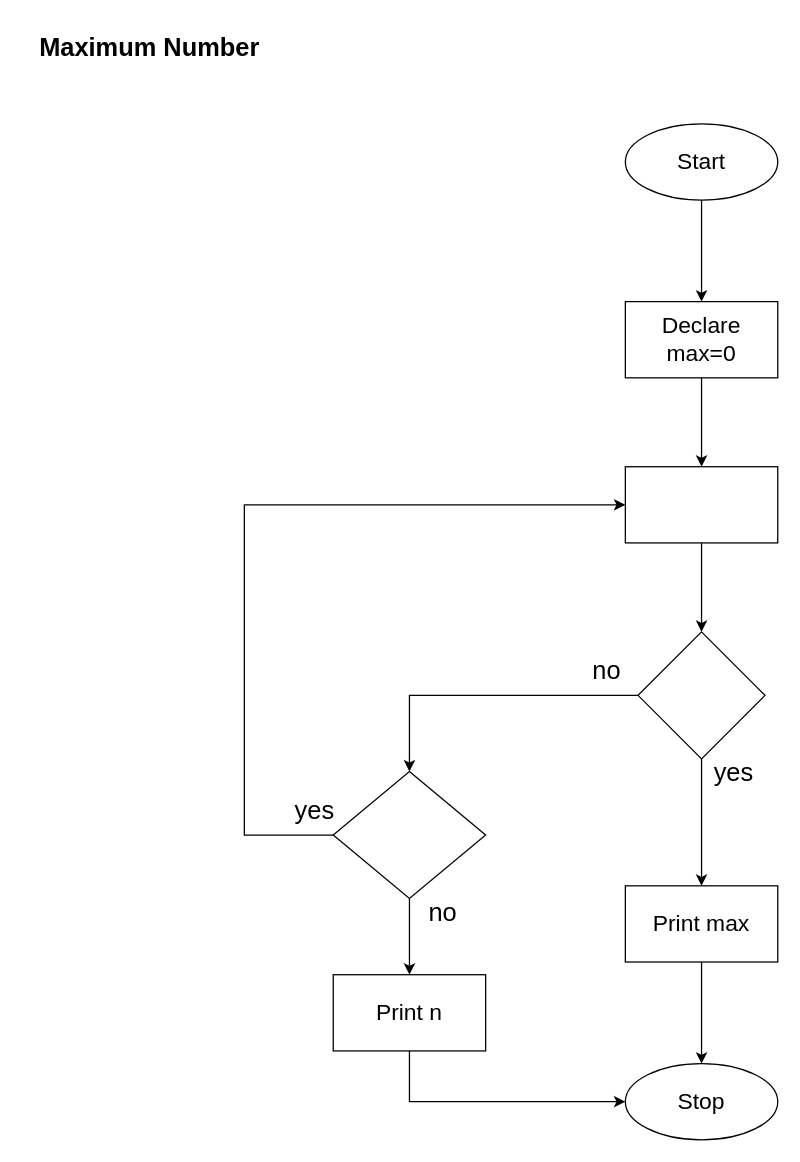
Image size: 800x1162. Some labels were removed from this diagram. The shapes that lost their labels are listed below. From the top down, each one's centre as x and y in pixels, then its label:
At [701,504]: "input n".
At [701,695]: "if n==0".
At [409,834]: "if max<n".
